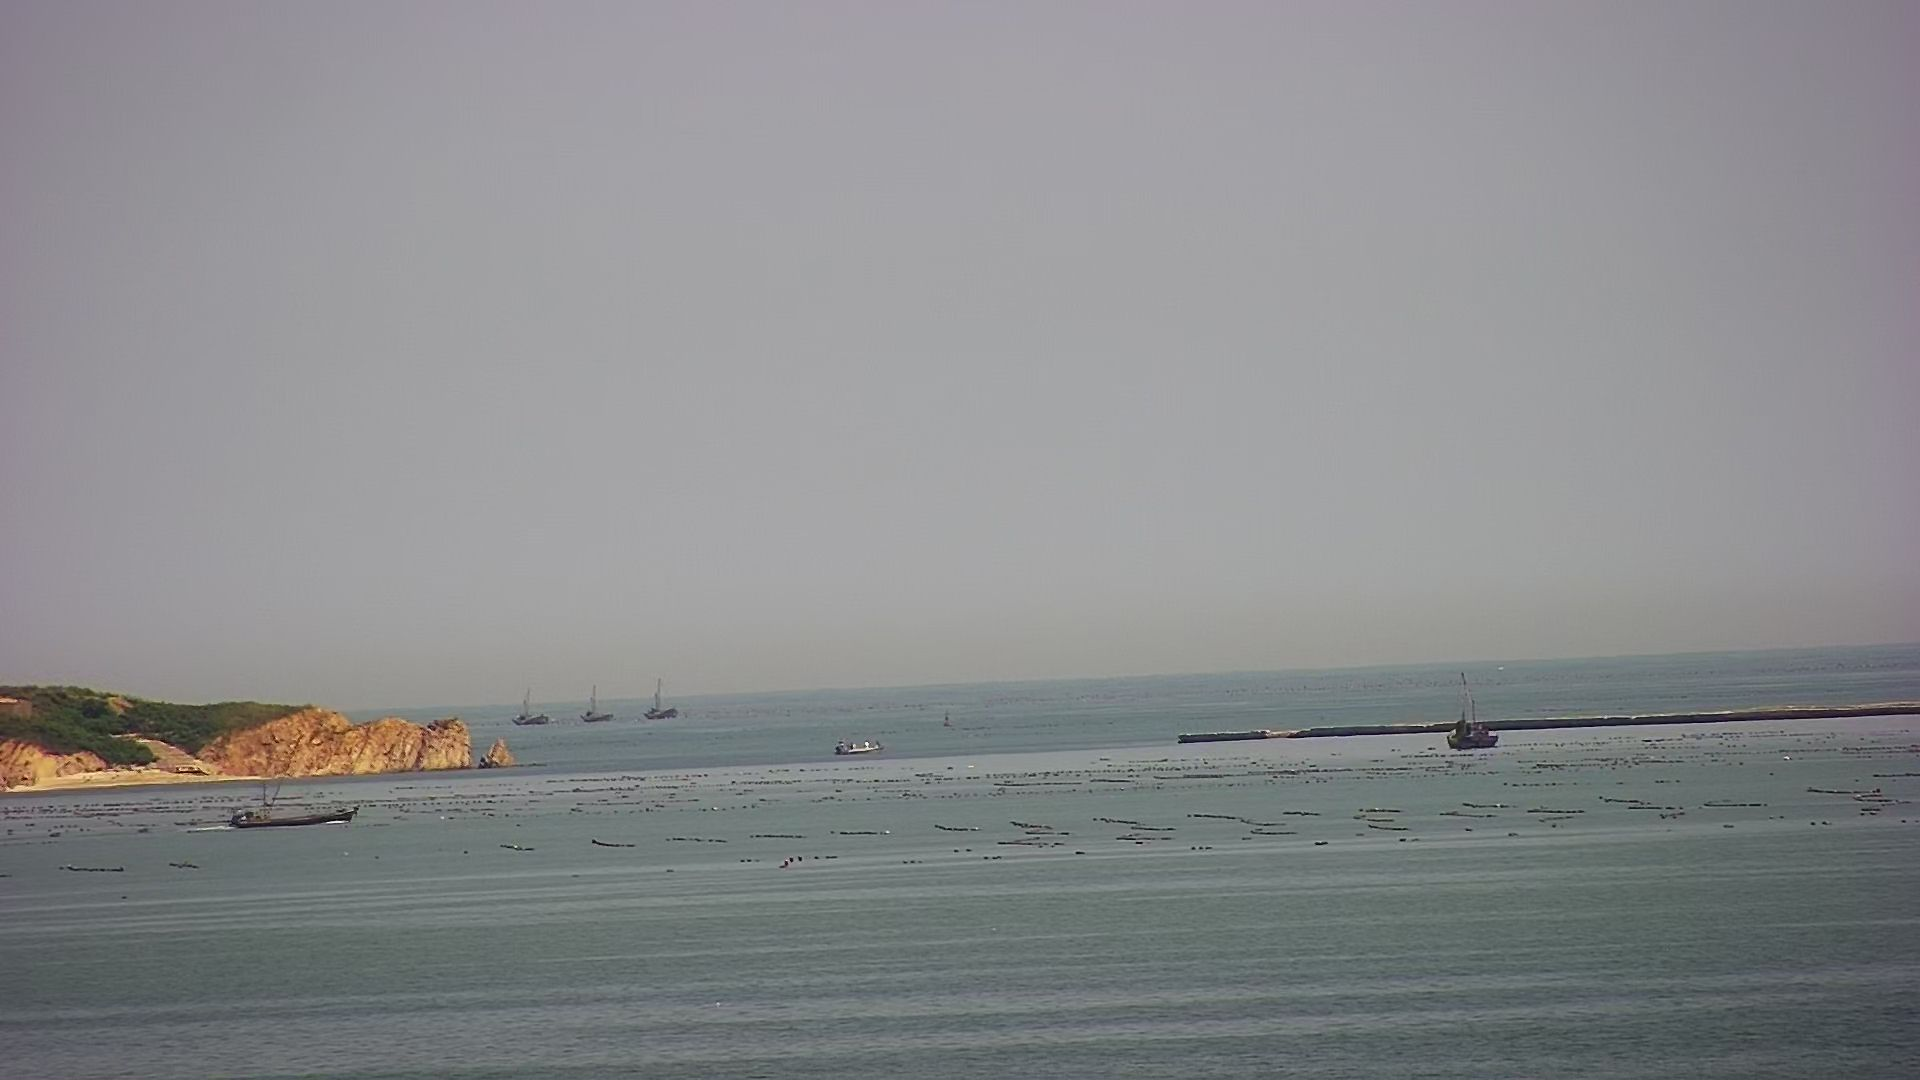boat: (1445, 673, 1501, 752), (225, 802, 371, 827), (818, 738, 886, 758)
rock: (1, 691, 501, 798), (1160, 707, 1917, 745)
